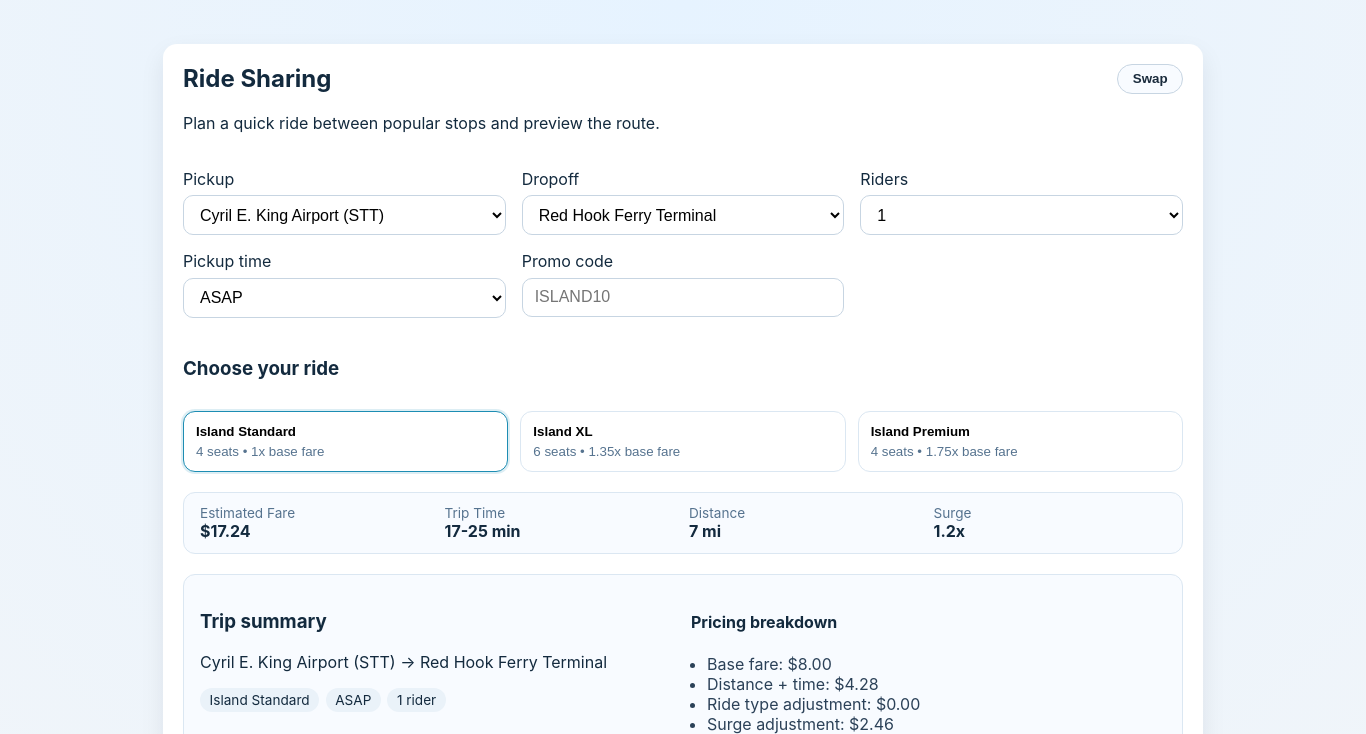
Scenario: blocks direct ride requests for inter-island routes
The width and height of the screenshot is (1366, 734).
Select "Christiansted Boardwalk (St. Croix)" in the dropdown labelled "Dropoff" at (683,215), box [522,195,844,236]
(page scrolled)
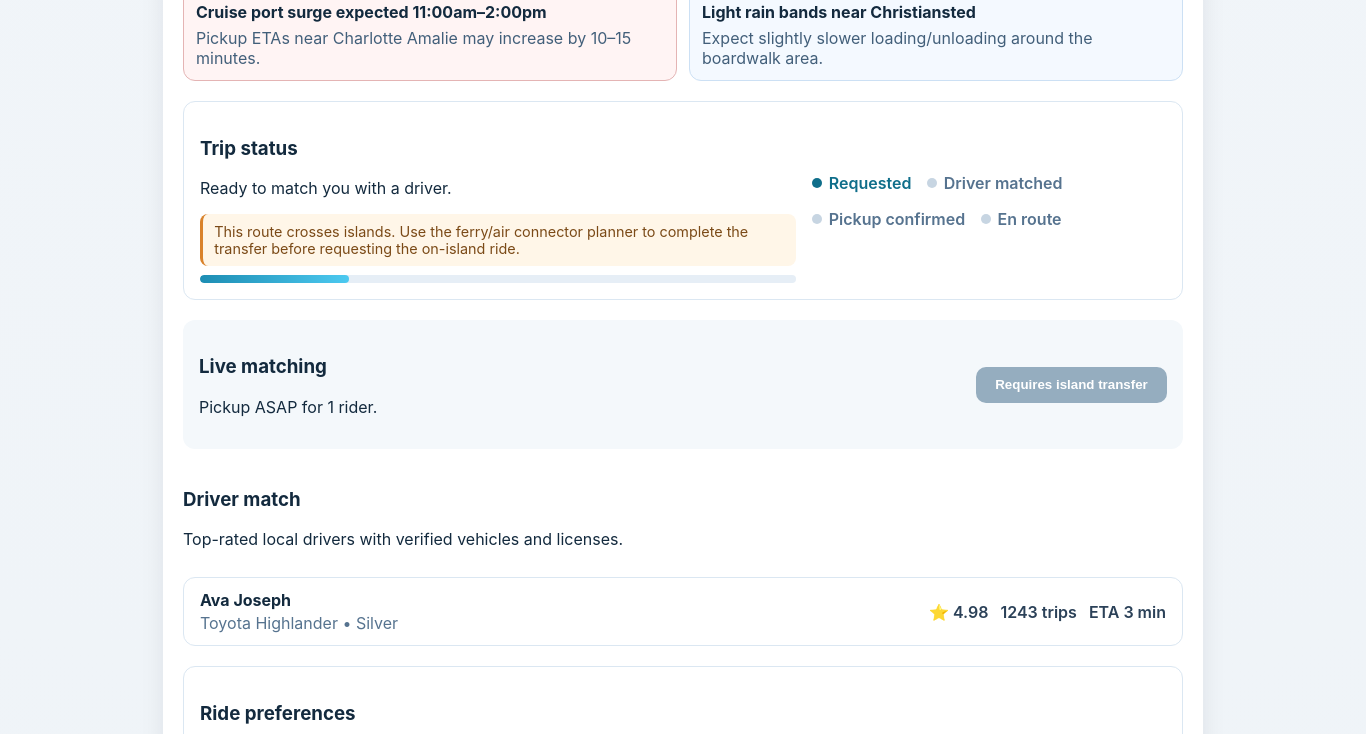
Now the text "route crosses islands" is shown, box [214,223,748,257]
Now the button "Requires island transfer" is disabled, box [976,367,1167,403]
